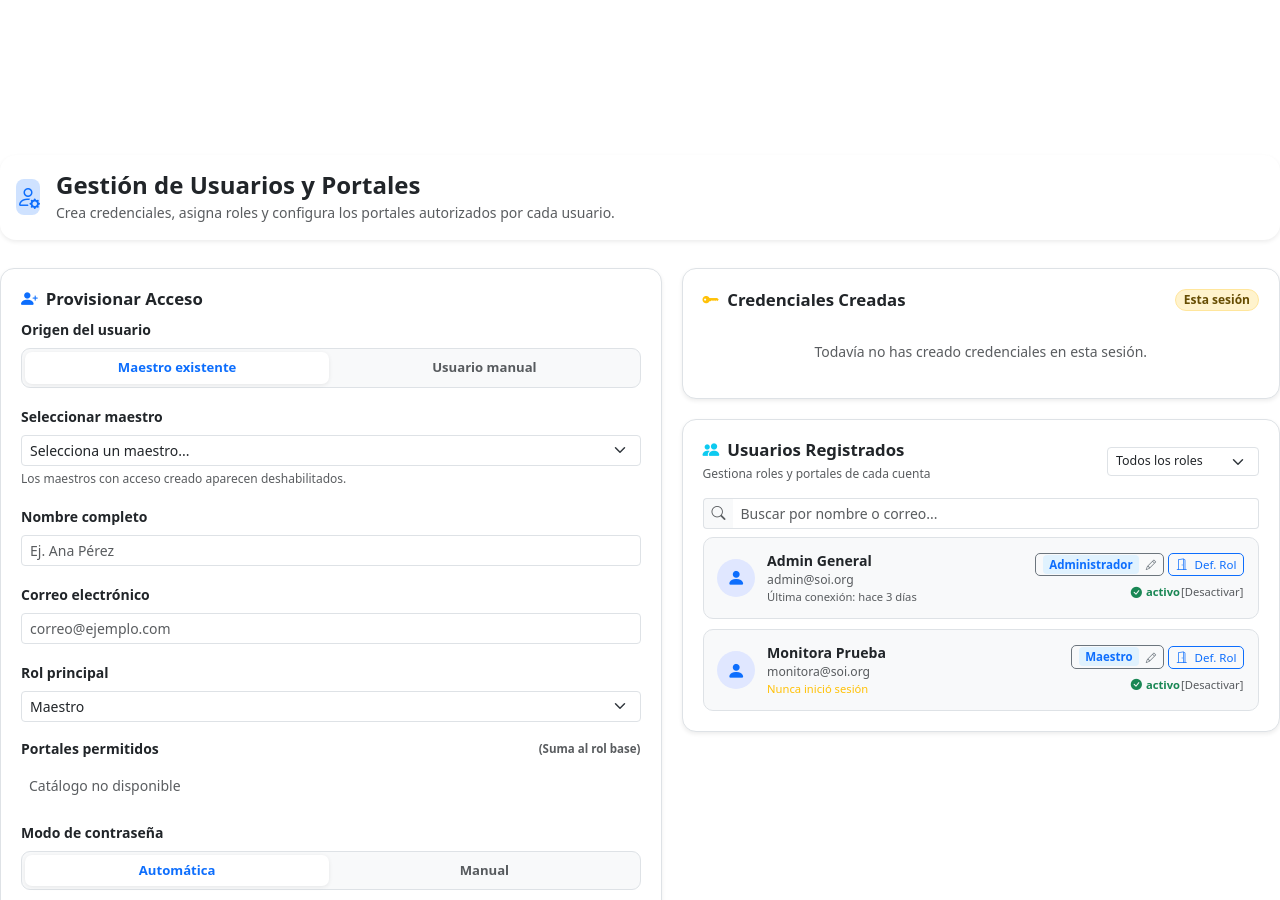
Test: gestionUsuariosView › autocompleta nombre, correo y rol al escoger un maestro
The width and height of the screenshot is (1280, 900).
Select "Ana Pérez · ana@soi.org" in the dropdown with id "gu-maestro-select": (331, 450) [21,435,640,466]
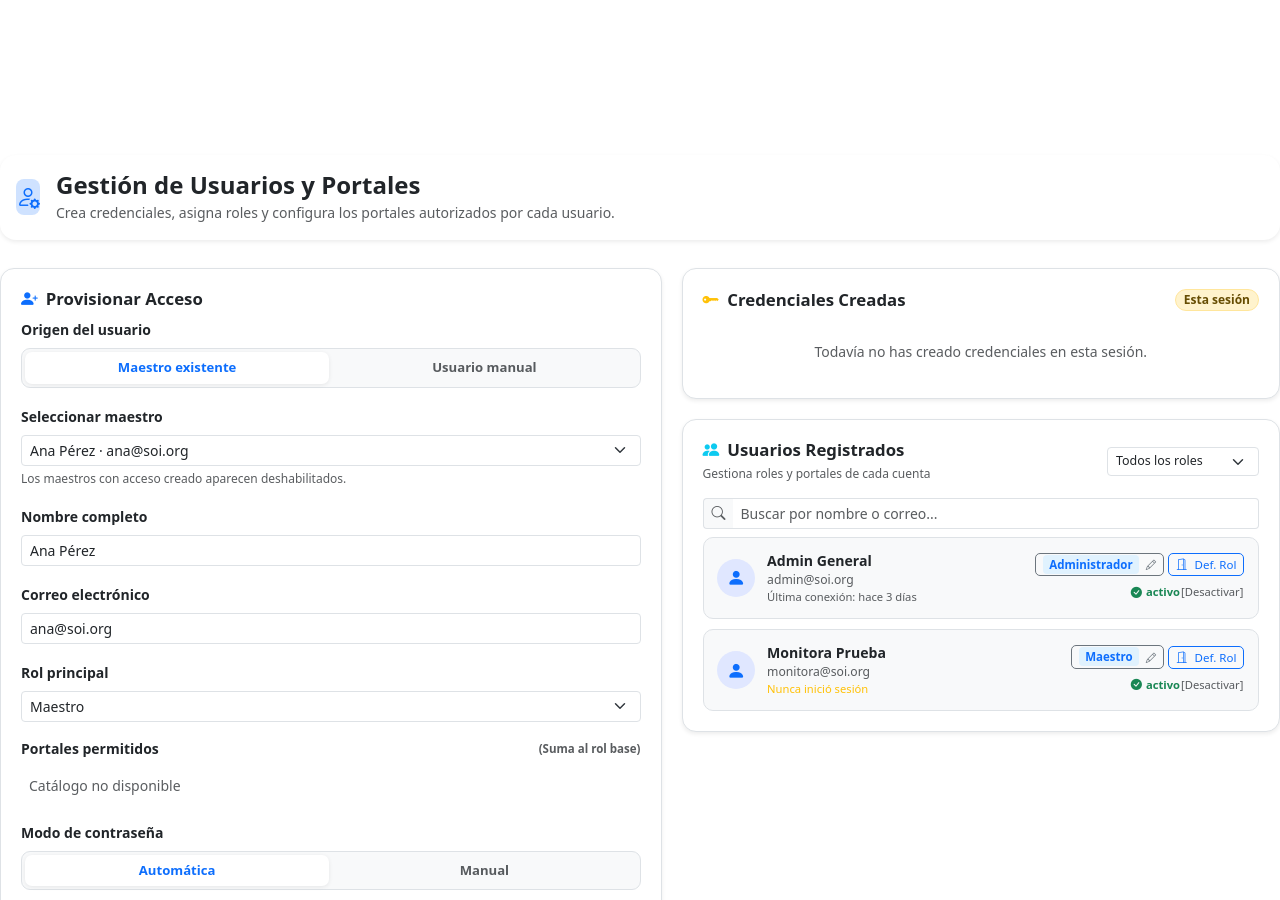
Expected: the dropdown with id "gu-rol" shows "Maestro", [21,691,640,722]
Result: the field with id "gu-nombre" holds "Ana Pérez" at [21,535,640,566]
Result: the field with id "gu-email" holds "ana@soi.org" at [21,613,640,644]
